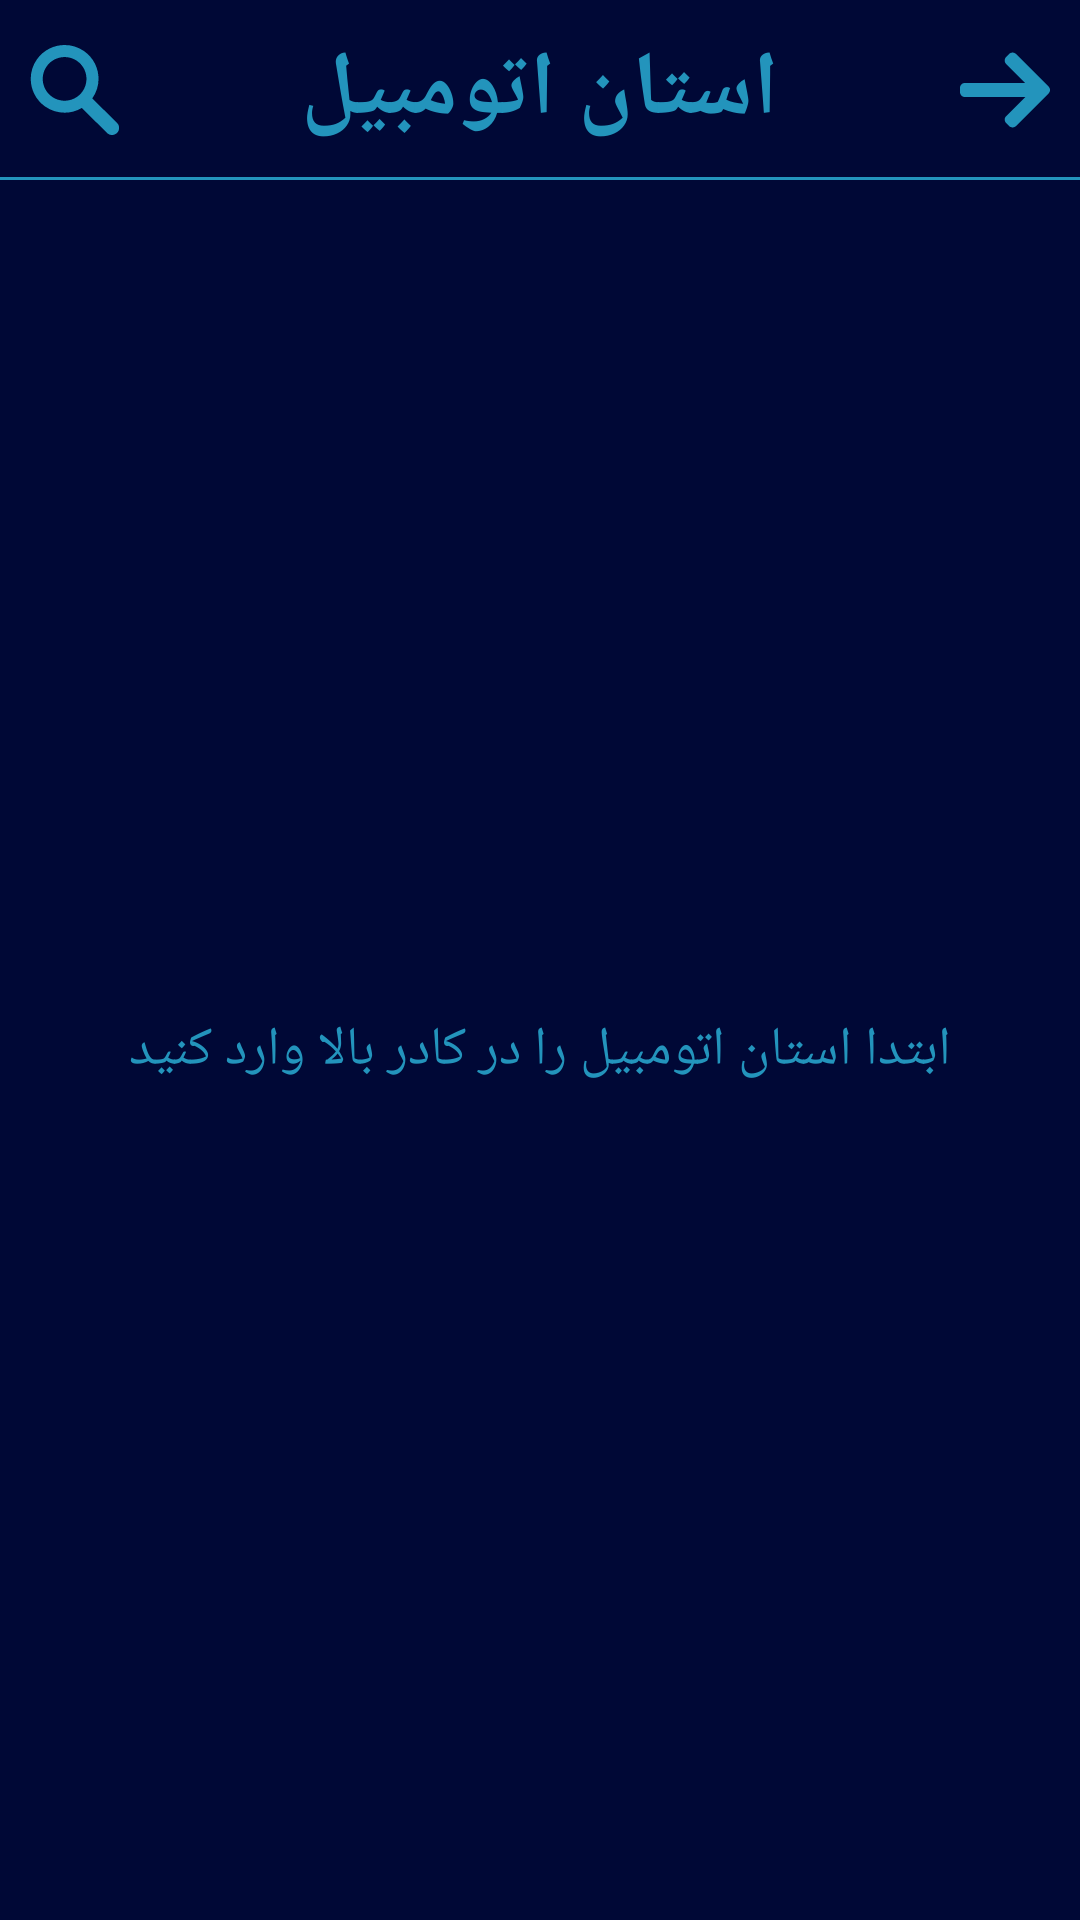

Screen size 1080 × 1920. Icon name, then its box in pixels as (x1, y1, x2, y2):
search: (30, 45, 119, 135)
